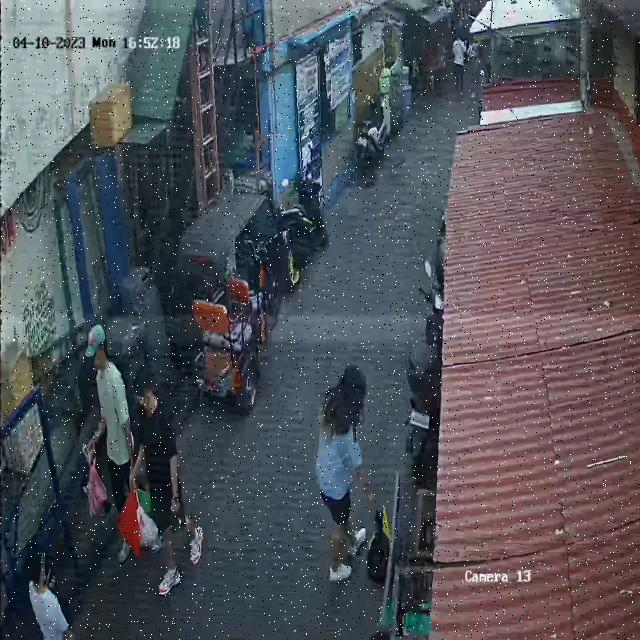garbage_dumping: (117, 455, 159, 569), (76, 437, 110, 519), (368, 497, 392, 588)
